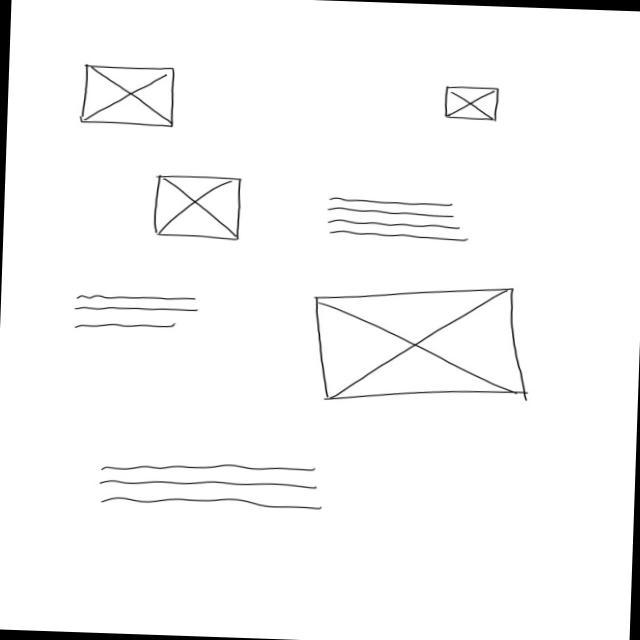image: (308, 278, 532, 408), (77, 62, 176, 128), (152, 172, 244, 242), (442, 83, 500, 123)
textbox: (96, 458, 324, 512), (323, 194, 477, 244), (69, 289, 201, 335)
